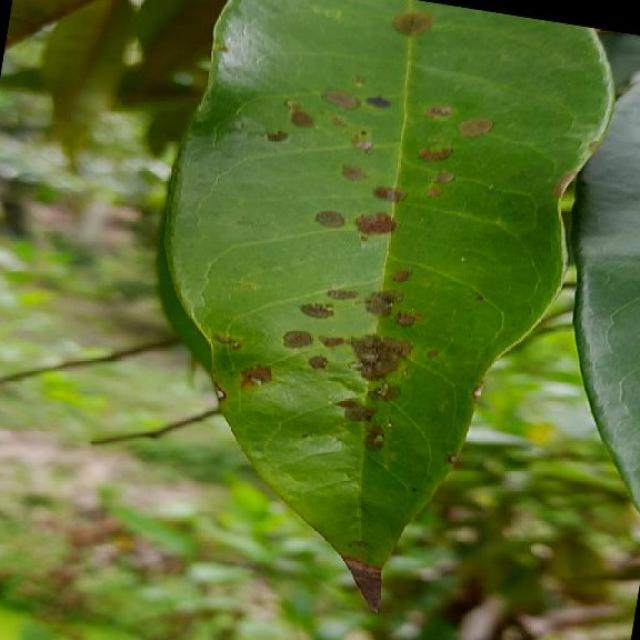Algal Leaf Spot: (93, 0, 634, 640)
